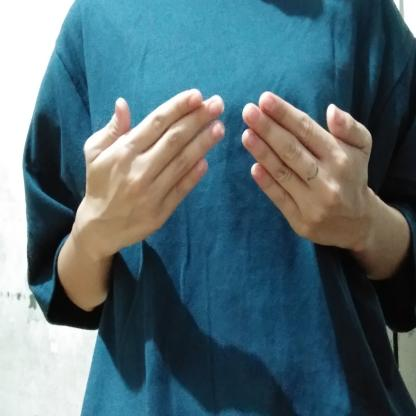night: (62, 84, 398, 276)
